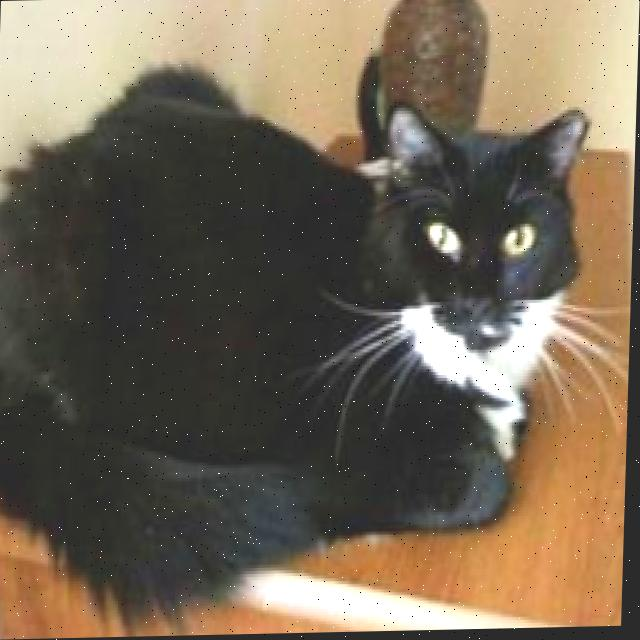Tuxedo: (0, 48, 599, 622)
